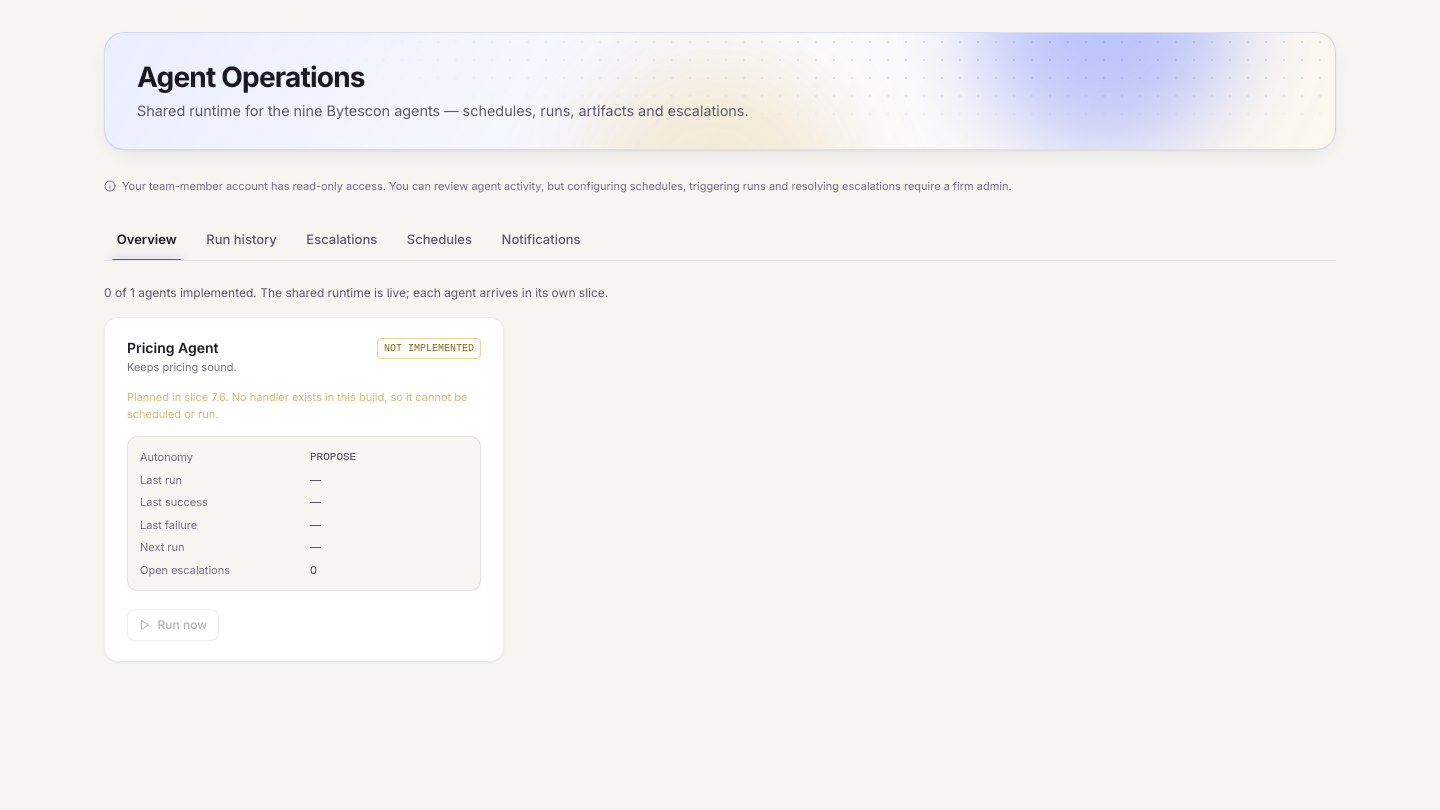
Test case: Agents — notification preferences › explains why a read-only account cannot save a preference
Expected: the heading "Pricing Agent" is shown, [127,339,218,356]
Click the tab "Notifications": x=541, y=240 [489,220,593,260]
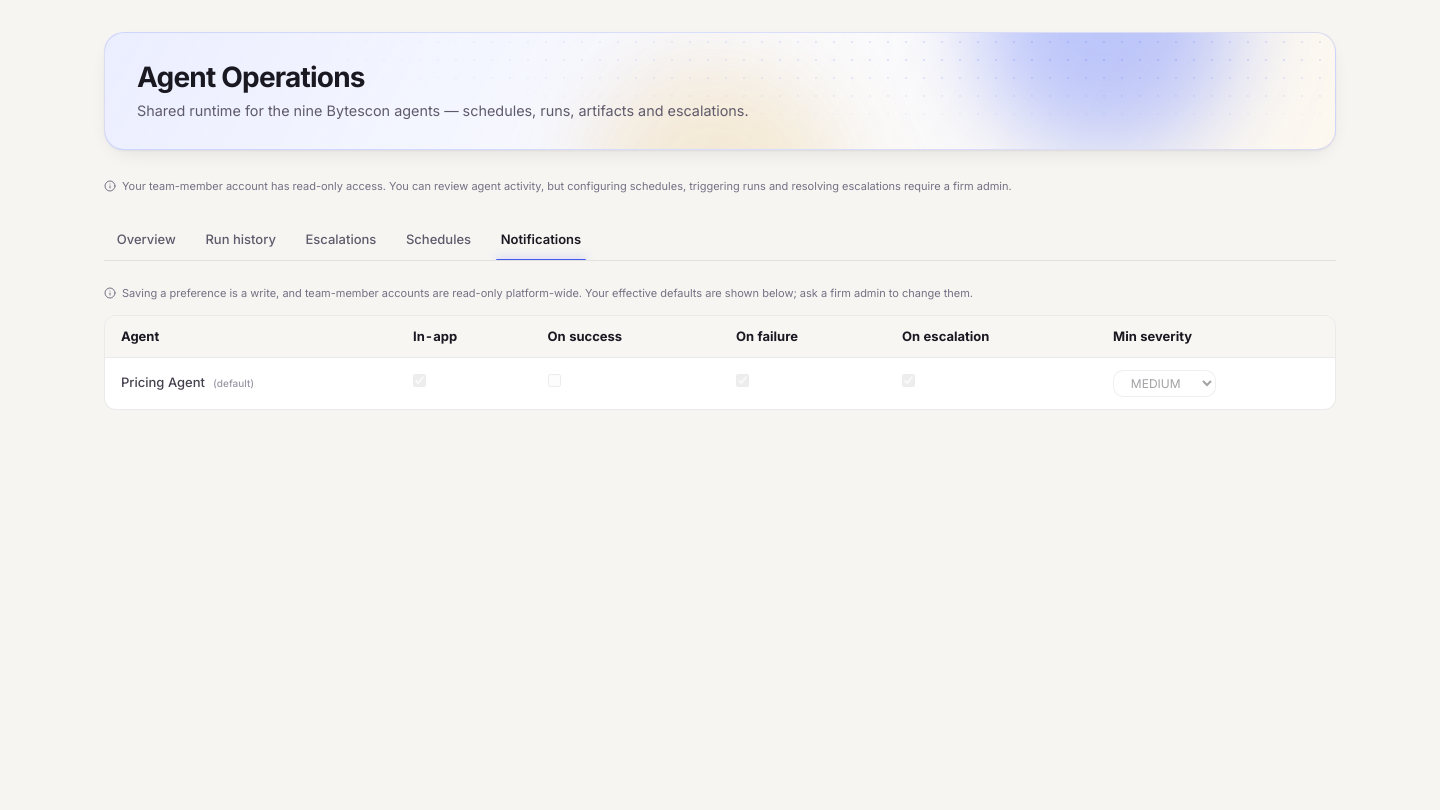
Result: the text "team-member accounts are read-only" is shown at [122,286,973,300]
